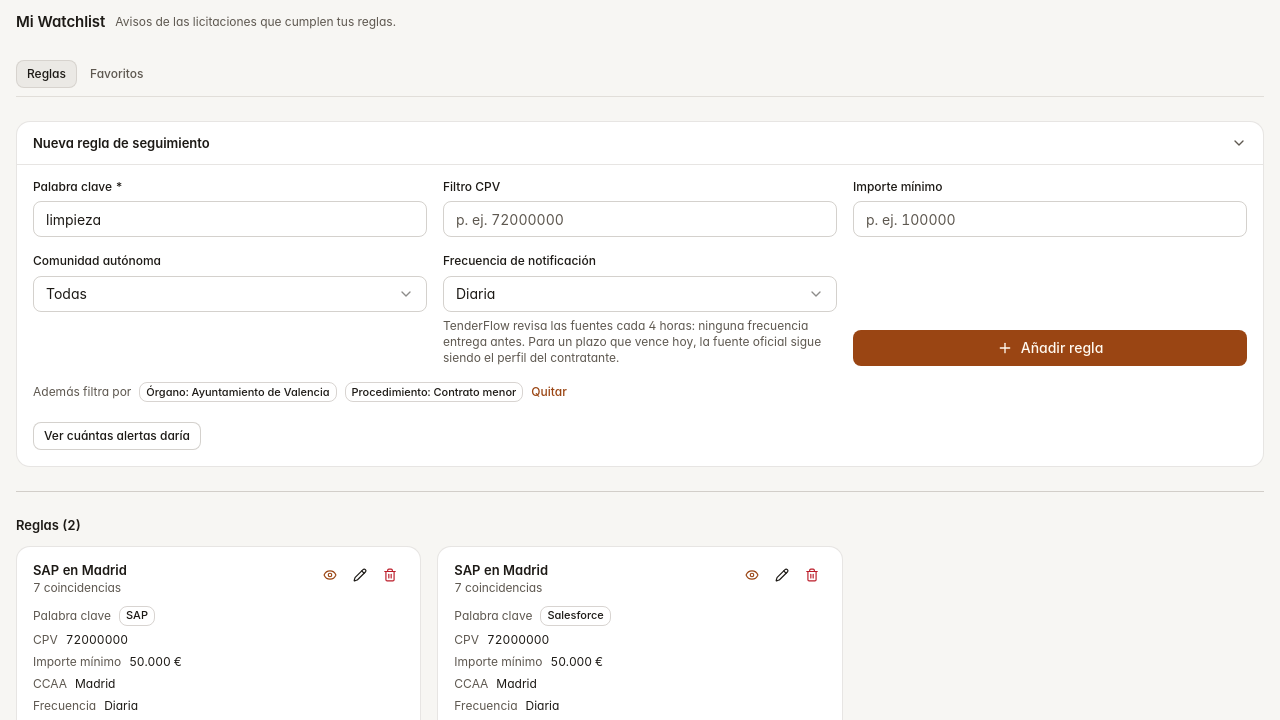
Test: MiWatchlistPage — alta desde el Investigador › enseña el órgano y el procedimiento que trae, y los guarda con la regla
Expected: the text "Órgano: Ayuntamiento de Valencia" is shown, [139, 382, 336, 402]
Expected: the text "Procedimiento: Contrato menor" is shown, [344, 382, 523, 402]
Click the button "Añadir regla" at (1050, 348), box [853, 330, 1247, 366]
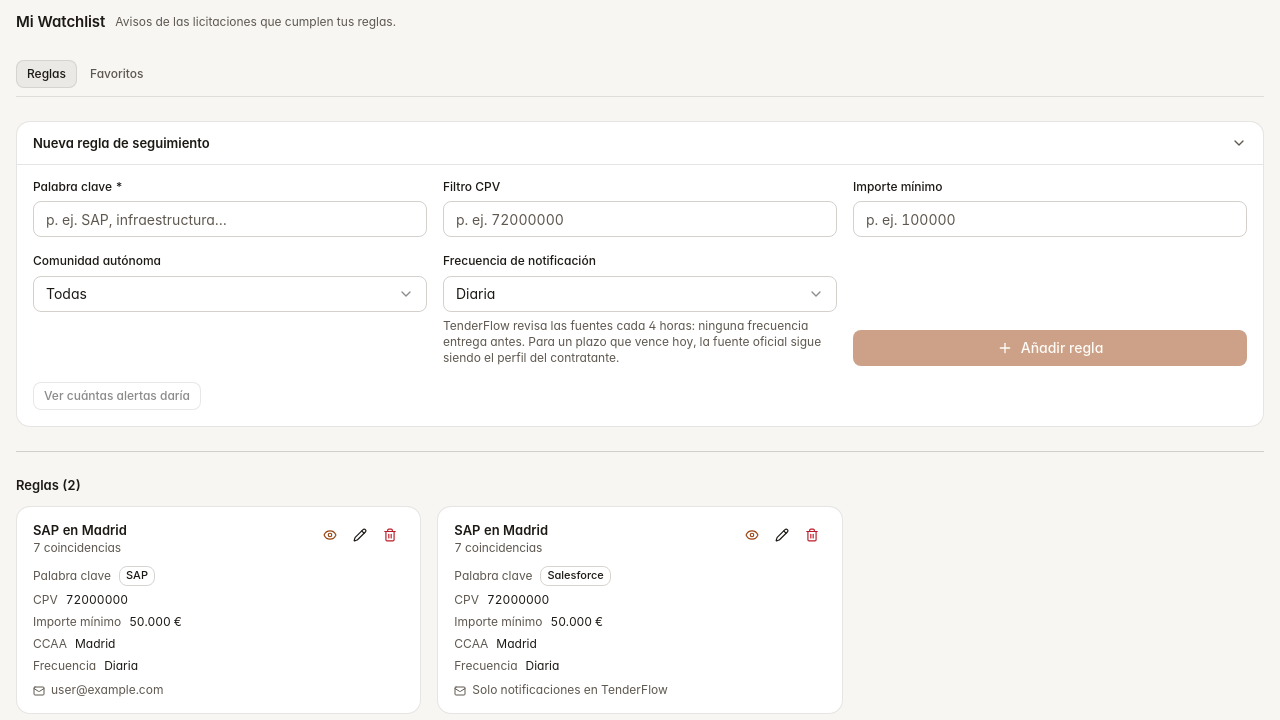
Result: the text "Además filtra por" is gone
